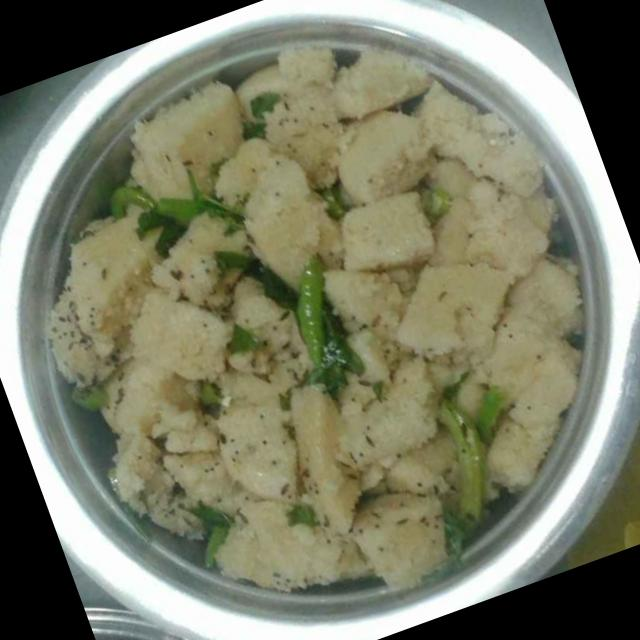dhokla: (10, 12, 628, 640)
